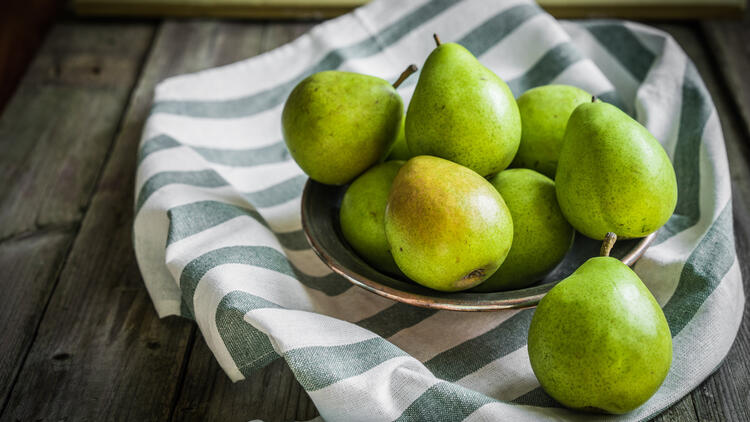pear: (528, 257, 672, 413), (385, 156, 513, 289), (559, 100, 676, 243), (401, 49, 522, 168), (282, 78, 400, 169)
